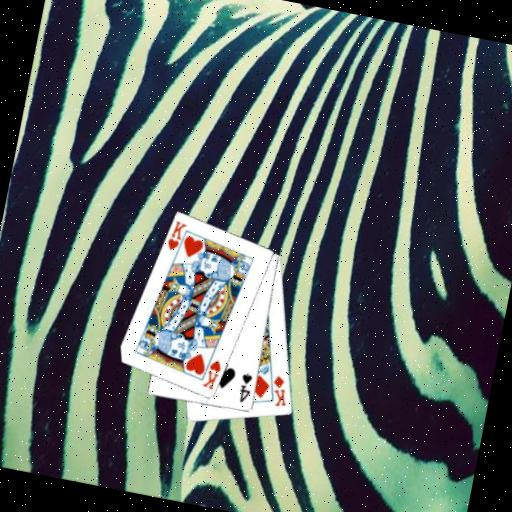4S: (234, 370, 256, 406)
KD: (266, 372, 293, 410)
KH: (200, 355, 225, 392), (164, 217, 189, 254)
